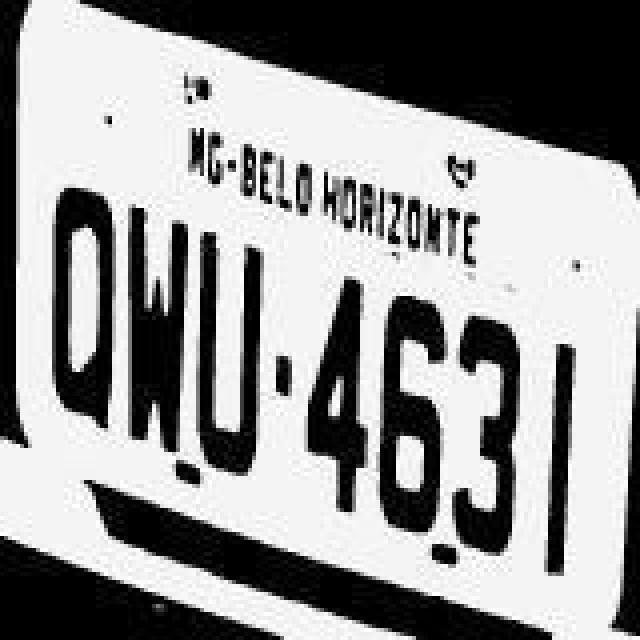1: (528, 334, 584, 578)
3: (450, 314, 526, 558)
4: (306, 276, 382, 524)
6: (374, 292, 450, 532)
Q: (48, 186, 120, 438)
U: (188, 220, 268, 468)
W: (114, 188, 190, 452)
